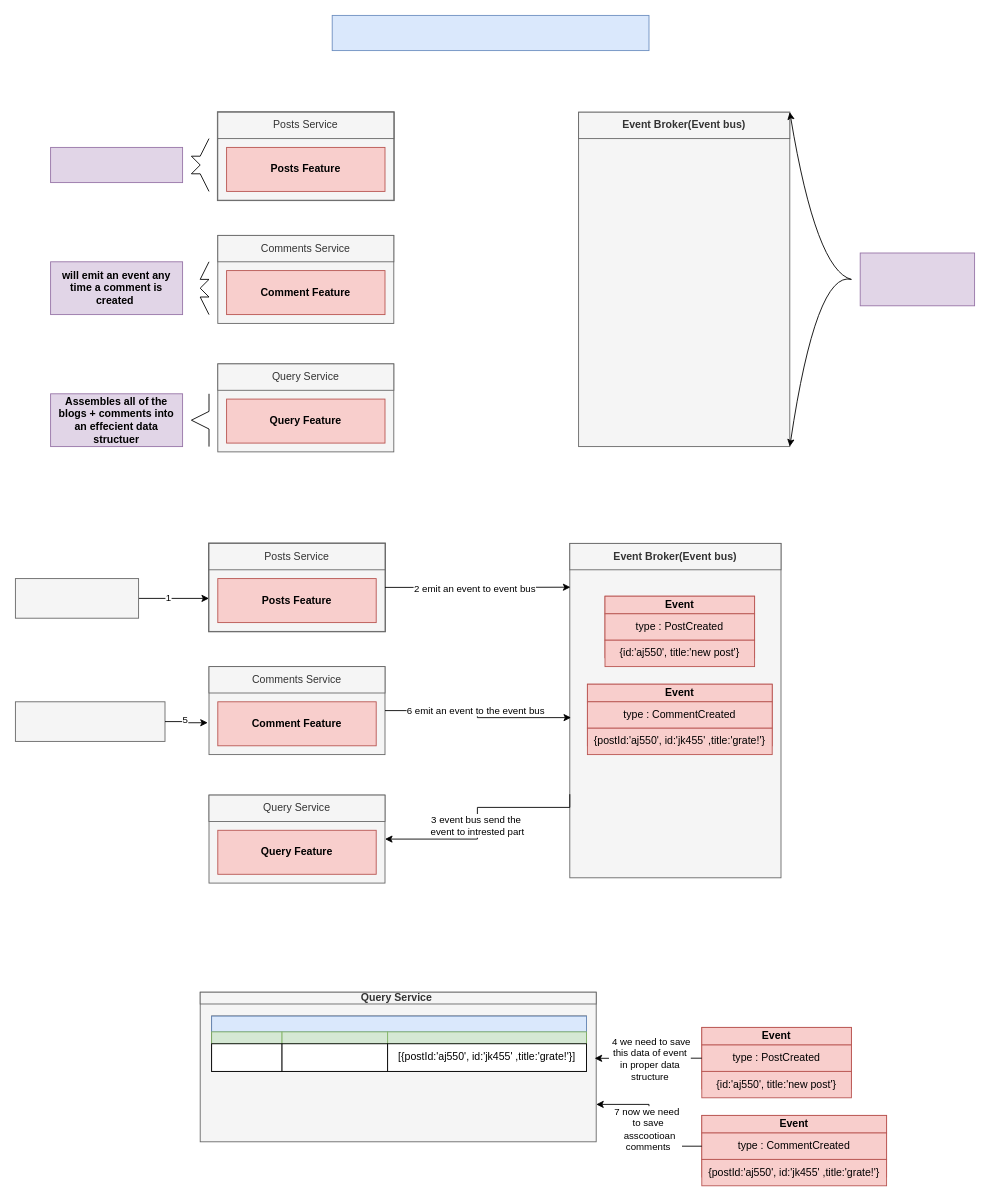
This 990x1201 diagram has some shape labels left out. Each missing label, with the centre of its shape:
aj550: pixel 246 1057
comments: pixel 487 1037
id: pixel 246 1037
new post: pixel 334 1057
POST /posts: pixel 77 598
POST /posts/:id/comments: pixel 90 721
Posts: pixel 399 1023
Receives events sends them on to intrested parties: pixel 917 279
Solution #2 - Async Communication: pixel 490 33
title: pixel 334 1037
will emit an event any time a post is created: pixel 116 165
